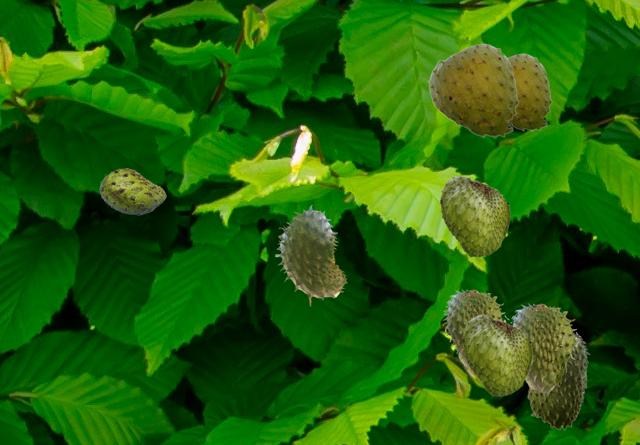guyabano: (427, 43, 518, 138), (275, 205, 346, 305), (509, 303, 580, 394), (527, 332, 589, 429), (440, 174, 509, 256), (462, 313, 531, 395), (442, 289, 508, 369), (508, 53, 551, 131), (99, 168, 165, 214)
